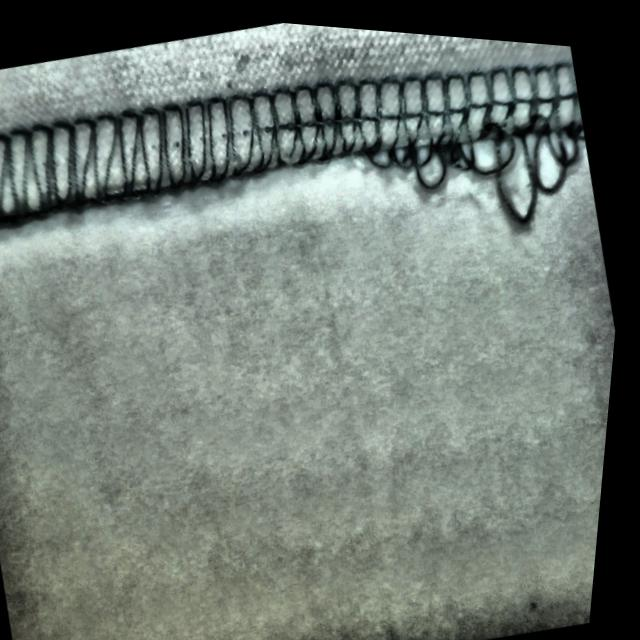Stitch: (348, 23, 610, 253)
